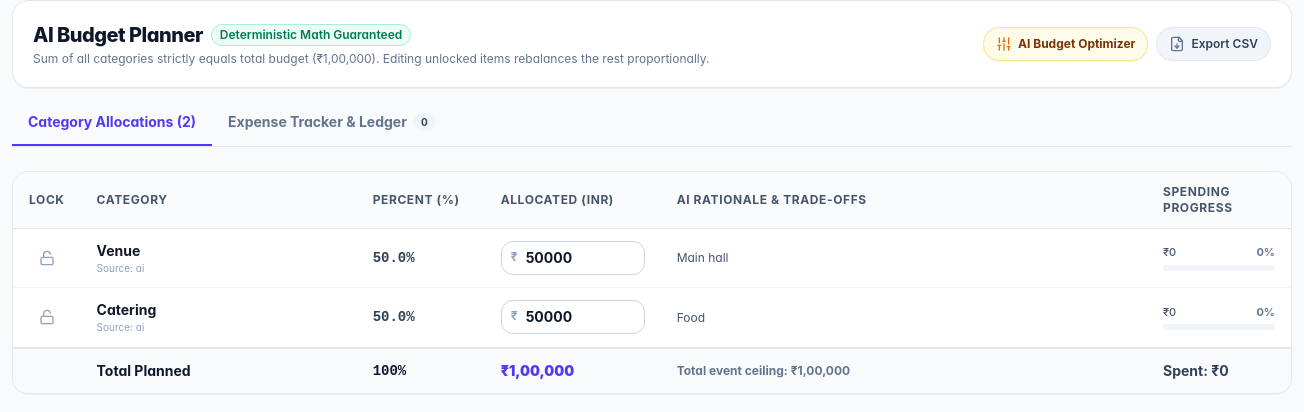
Test: BudgetView Component › should switch to expenses tab when clicked
Click the text "Expense Tracker & Ledger" at (318, 122), box [228, 112, 407, 132]
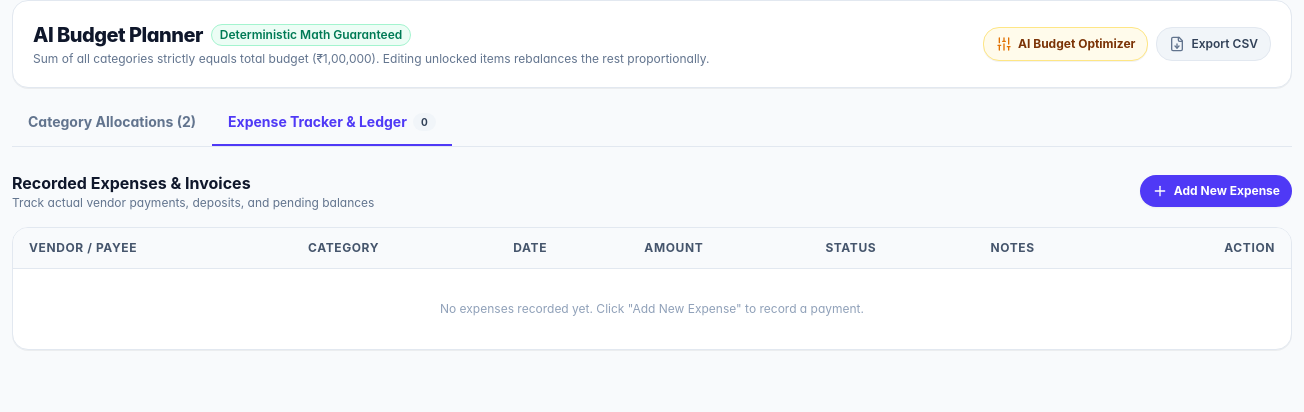
Expected: the heading "Recorded Expenses & Invoices" is shown, [12, 173, 251, 193]
